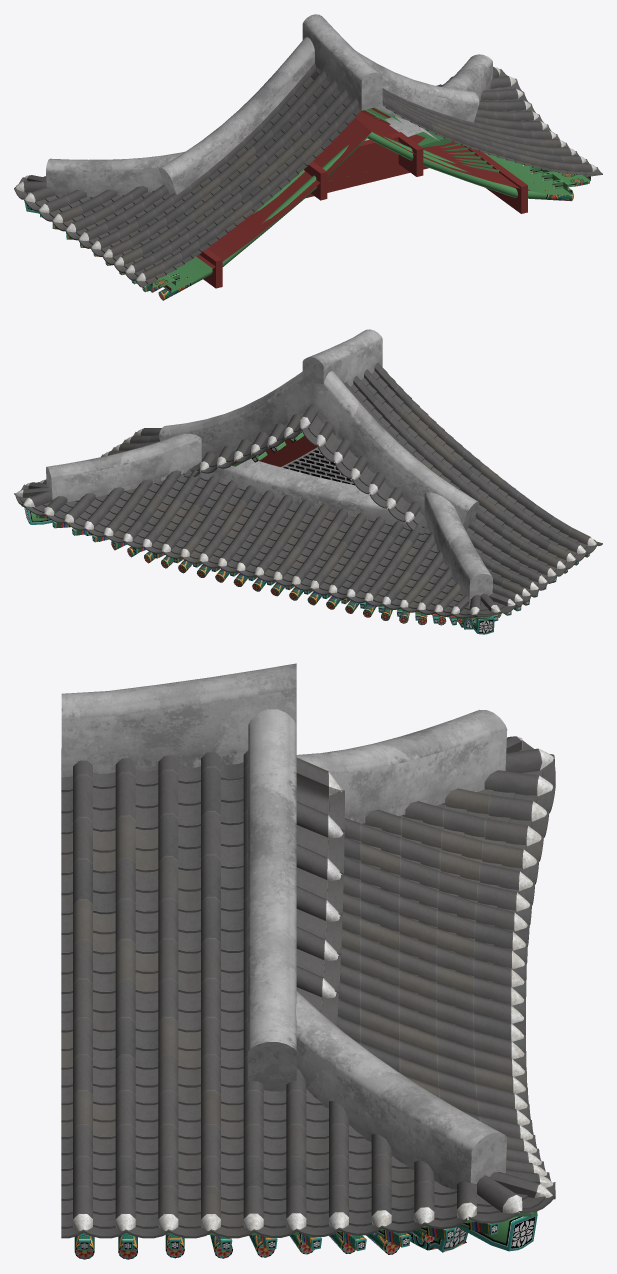
Rendered from SM_Gate_Roof01b.fbx.
3 views of the same model, one above another, from view 1: azimuth 30°, elevation 25°; view 2: azimuth 150°, elevation 25°; view 3: azimuth 270°, elevation 25° (orthographic). The views are drawn at different scales.
Visible parts, largest first — view 1: SM_Gate_Roof01b; view 2: SM_Gate_Roof01b; view 3: SM_Gate_Roof01b.
Part boxes in pixels (left/top/right/bottom): SM_Gate_Roof01b: left=14, top=14, right=602, bottom=300; SM_Gate_Roof01b: left=14, top=329, right=602, bottom=634; SM_Gate_Roof01b: left=61, top=663, right=555, bottom=1259.
Size of the model in its own units: 800 by 348 by 313.
Materials: 2 (2 with a texture image).
